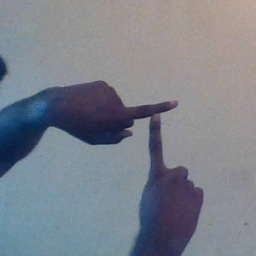T: (99, 82, 205, 194)
